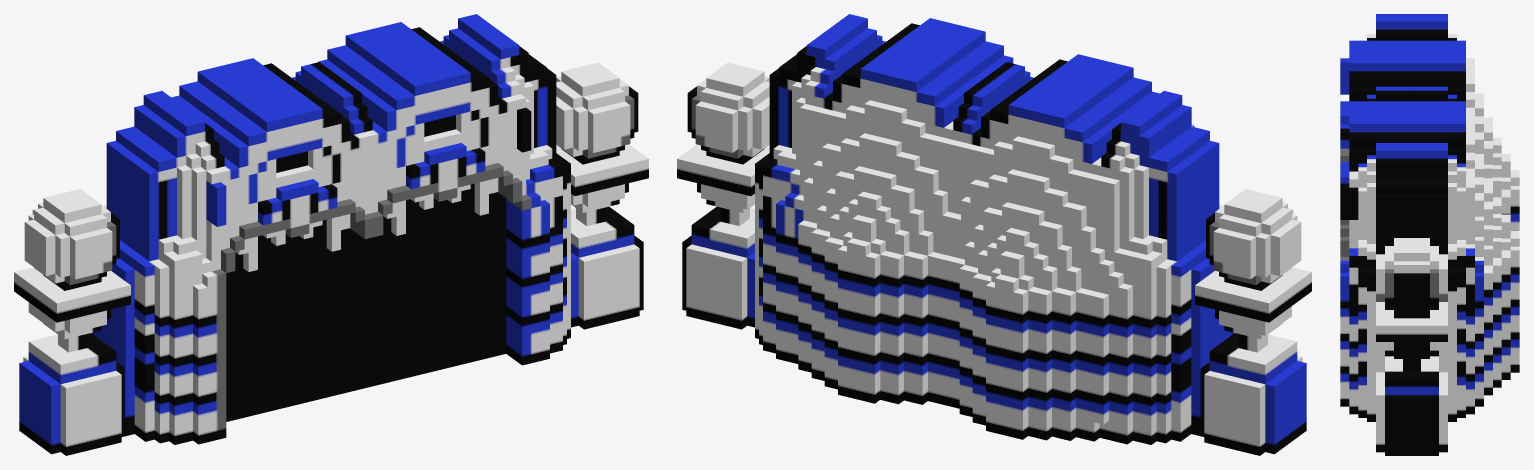
Rendered from TempleEntranceOneEyeWhiteDouble.obj.
3 views of the same model, side by side, from view 1: azimuth 30°, elevation 25°; view 2: azimuth 150°, elevation 25°; view 3: azimuth 270°, elevation 25° (orthographic). The views are drawn at different scales.
Visible parts, largest first — view 1: Matrix; view 2: Matrix; view 3: Matrix.
Part boxes in pixels (x1=…): Matrix: x1=14, y1=14, x2=648, y2=455; Matrix: x1=677, y1=14, x2=1311, y2=455; Matrix: x1=1340, y1=14, x2=1519, y2=455.
Bounding box in the file's own units: 6.4 × 3.1 × 2.
Materials: 1 (1 with a texture image).
